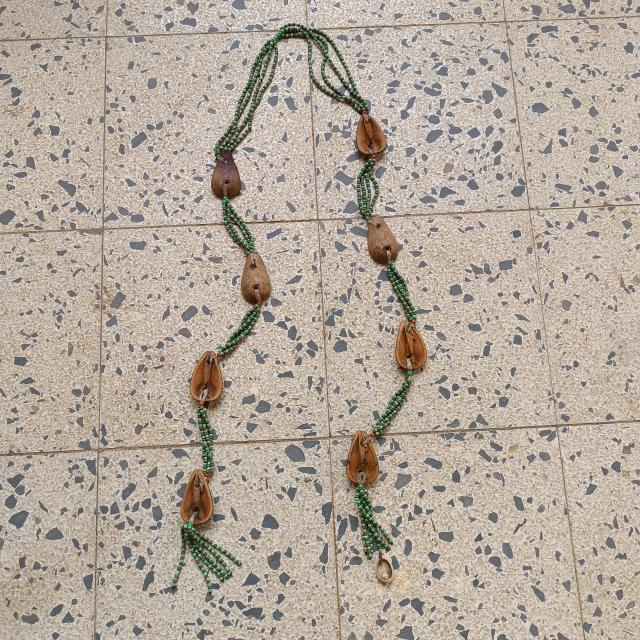facedown: (364, 206, 404, 275), (239, 246, 273, 310), (211, 144, 246, 202)
faceup: (391, 312, 431, 381), (346, 422, 383, 492), (180, 462, 216, 531), (187, 346, 226, 406), (351, 103, 389, 162)
